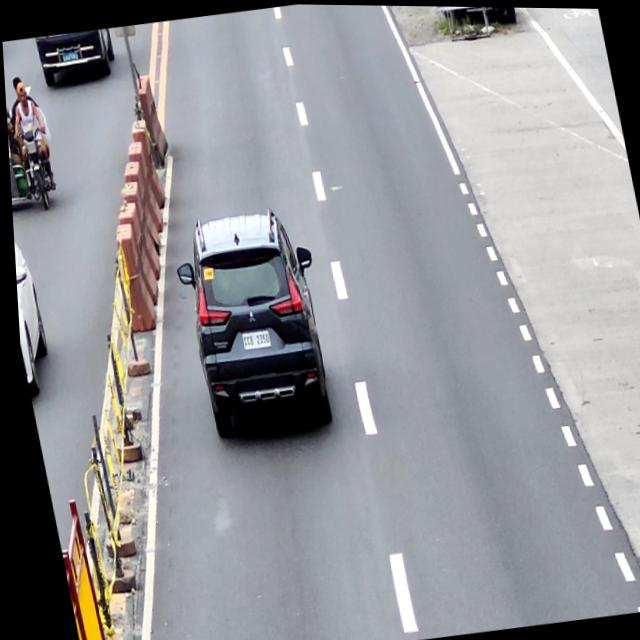Car: (164, 201, 342, 446)
License-Plate: (236, 328, 268, 351)
